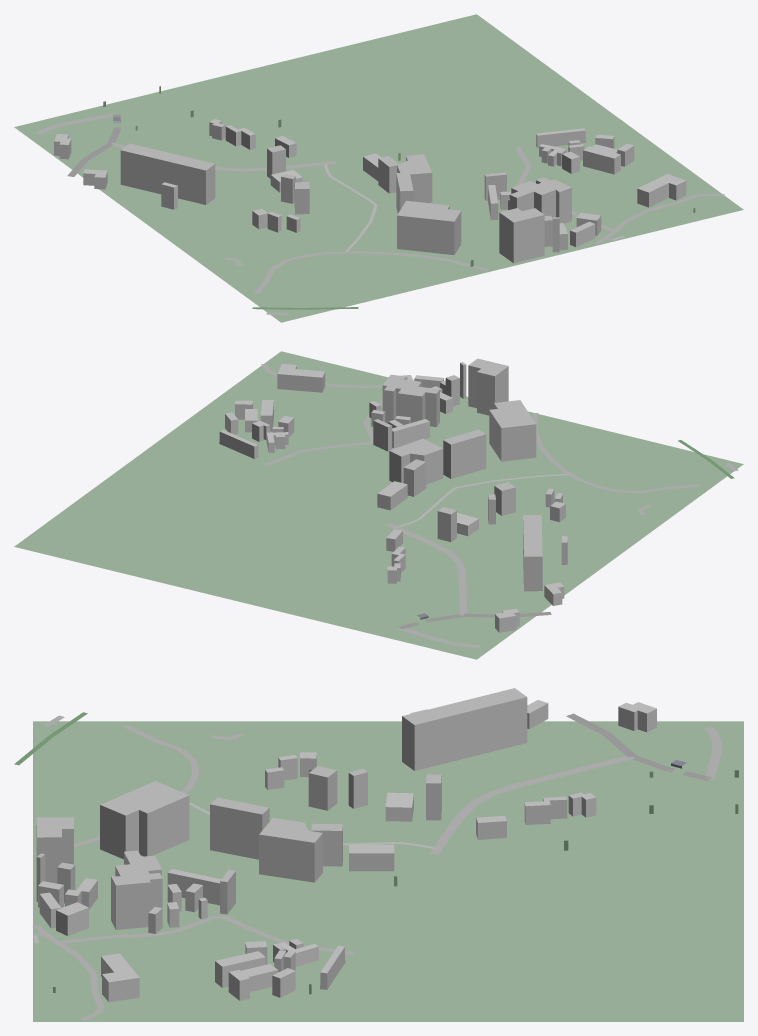
3 views of the same model, one above another, from view 1: azimuth 30°, elevation 25°; view 2: azimuth 150°, elevation 25°; view 3: azimuth 270°, elevation 25° (orthographic). The views are drawn at different scales.
Size of the model in its own units: 512 by 43.62 by 513.
